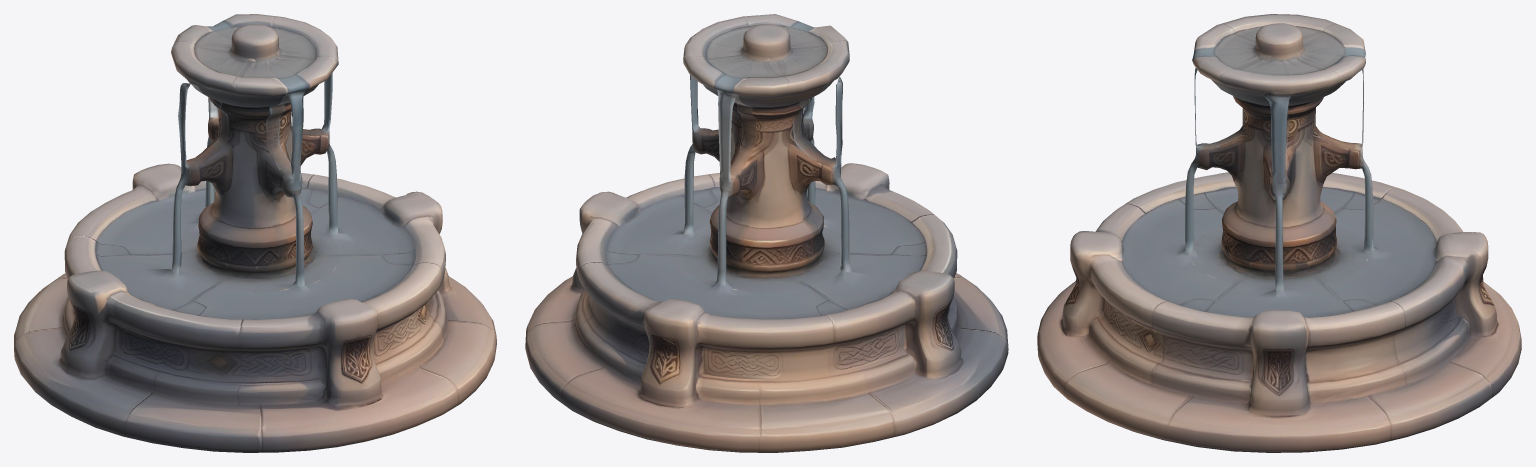
File: fountain.glb
The picture shows the model from 3 angles, left to right: view 1: azimuth 30°, elevation 25°; view 2: azimuth 150°, elevation 25°; view 3: azimuth 270°, elevation 25°; orthographic projection.
Parts seen in each view (by area): view 1: fountain; view 2: fountain; view 3: fountain.
Boxes of the visible parts, left/top/right/bottom form: fountain: left=14, top=14, right=496, bottom=452; fountain: left=525, top=14, right=1008, bottom=452; fountain: left=1037, top=14, right=1521, bottom=452.
Bounding box in the file's own units: 0.9981 × 0.7349 × 0.9988.
Materials: 1 (1 with a texture image).
